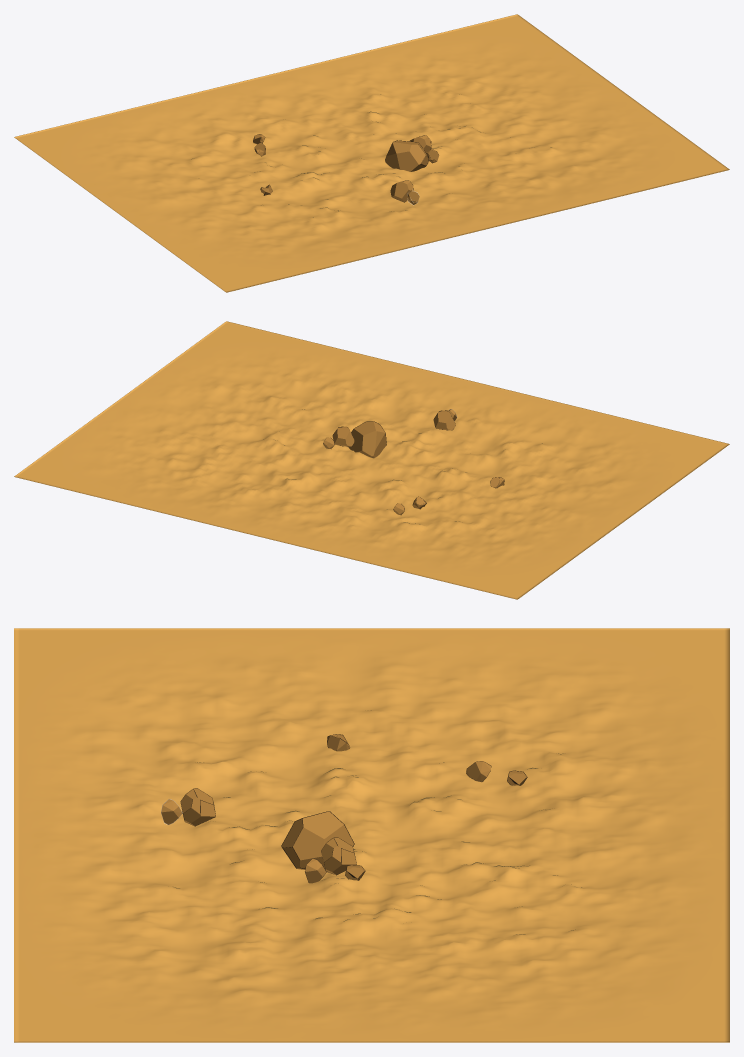
3 renders of one model, top to bottom at view 1: azimuth 30°, elevation 25°; view 2: azimuth 150°, elevation 25°; view 3: azimuth 270°, elevation 25°, orthographic. The views are drawn at different scales.
Parts seen in each view (by area): view 1: Landscape.002, Cube.005; view 2: Landscape.002, Cube.005; view 3: Landscape.002, Cube.005, Cube.003, Cube.
Boxes of the visible parts, x1,y1,x2,y2 form: Landscape.002: [14, 14, 729, 292]; Cube.005: [385, 140, 428, 171]; Landscape.002: [14, 321, 729, 599]; Cube.005: [348, 421, 386, 458]; Landscape.002: [14, 628, 729, 1042]; Cube.005: [281, 811, 354, 872]; Cube.003: [180, 788, 215, 826]; Cube: [321, 837, 356, 875].
Bounding box in the file's own units: 64.65 × 4.46 × 47.23.
